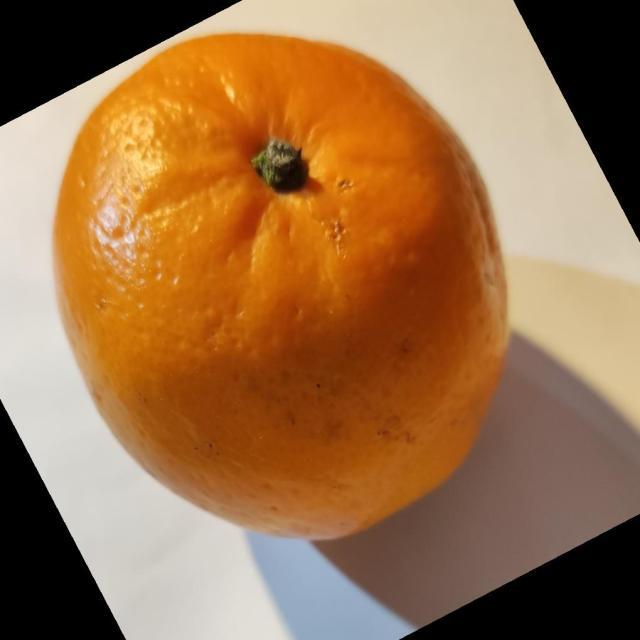fresh orange: (51, 31, 511, 542)
